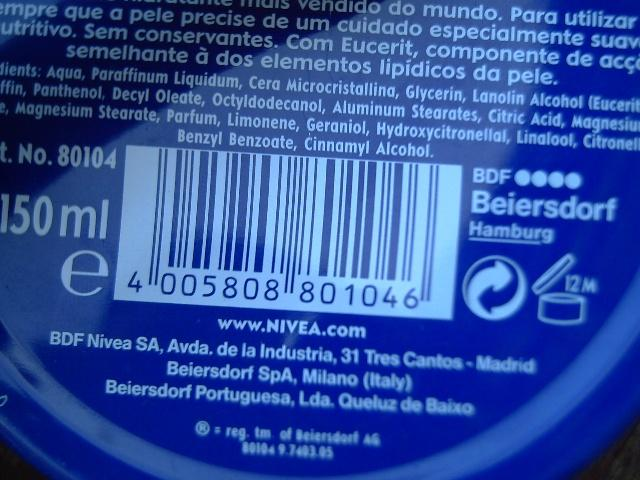Barcode: (121, 147, 443, 299)
